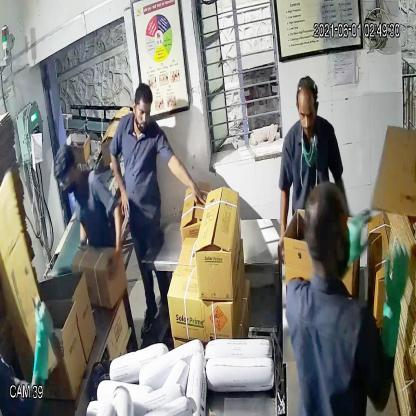no_goggles: (295, 101, 320, 126), (133, 103, 154, 121)
